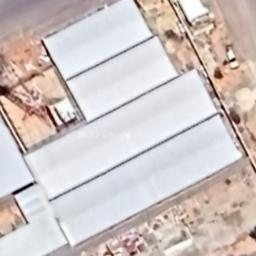van: (226, 48, 240, 68)
